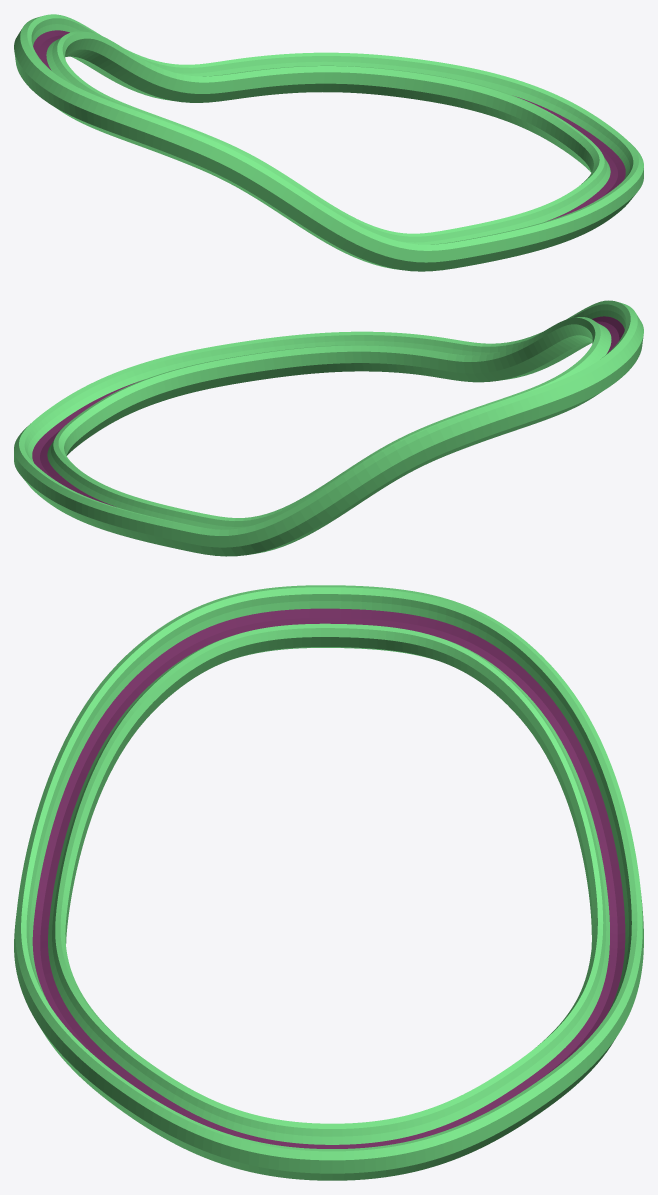
Rendered from level2.fbx.
3 renders of one model, top to bottom at view 1: azimuth 30°, elevation 25°; view 2: azimuth 150°, elevation 25°; view 3: azimuth 270°, elevation 25°, orthographic. The views are drawn at different scales.
Visible parts, largest first — view 1: LEVEL2.V1; view 2: LEVEL2.V1; view 3: LEVEL2.V1.
Part boxes in pixels (box(x1,y1,x2,y2)): LEVEL2.V1: box(14, 14, 643, 271); LEVEL2.V1: box(14, 300, 643, 556); LEVEL2.V1: box(14, 585, 643, 1180).
Bounding box in the file's own units: 1133 × 409 × 879.
